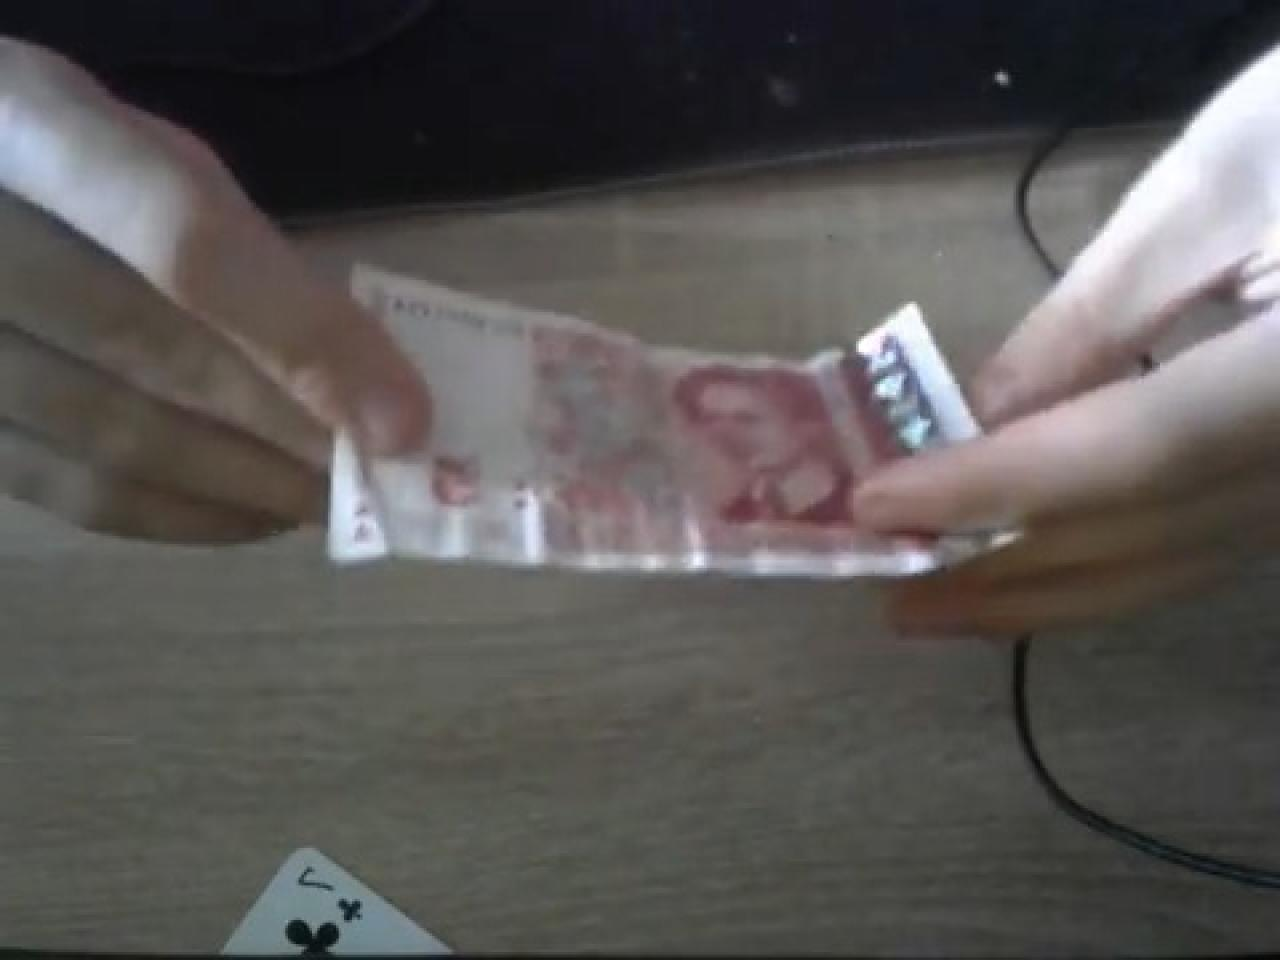5leva: (608, 365, 859, 550), (432, 339, 565, 563)
